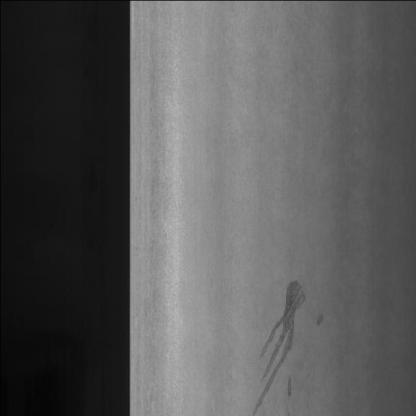water_spot: (240, 260, 327, 416)
